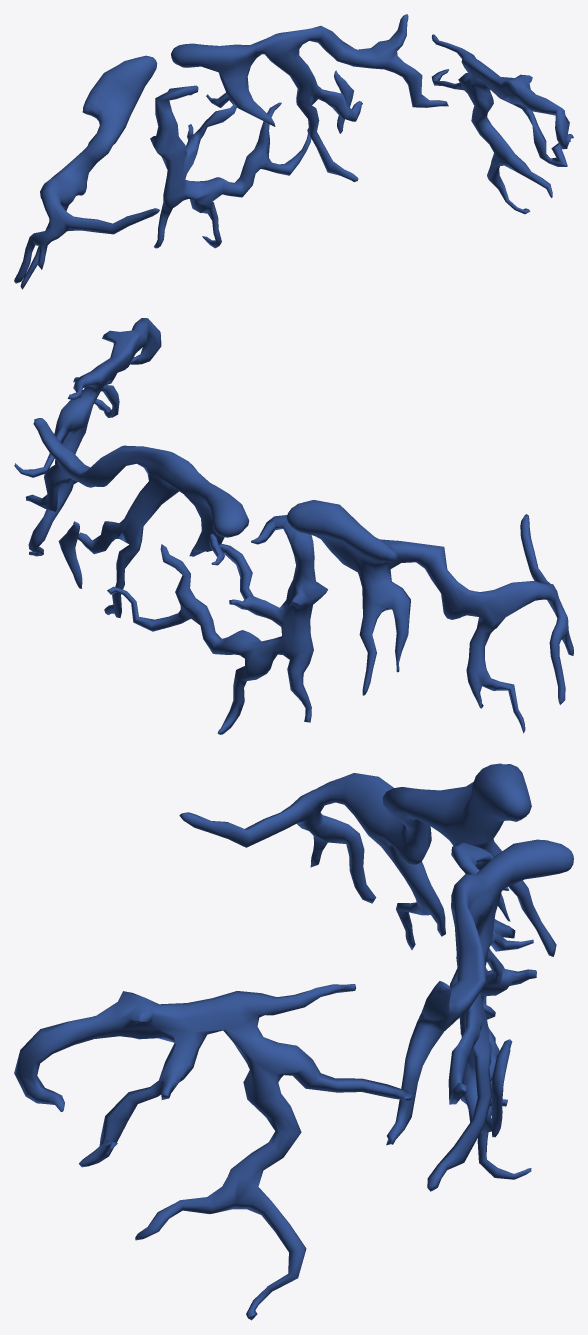
Rendered from Aumlot_Roots.fbx.
3 renders of one model, top to bottom at view 1: azimuth 30°, elevation 25°; view 2: azimuth 150°, elevation 25°; view 3: azimuth 270°, elevation 25°, orthographic. The views are drawn at different scales.
Visible parts, largest first — view 1: Aumlot_Roots; view 2: Aumlot_Roots; view 3: Aumlot_Roots.
Boxes of the visible parts, <box> form: Aumlot_Roots: <box>14,14,573,289</box>; Aumlot_Roots: <box>14,318,573,734</box>; Aumlot_Roots: <box>14,763,573,1320</box>.
Size of the model in its own units: 29.82 by 12.39 by 18.13.
